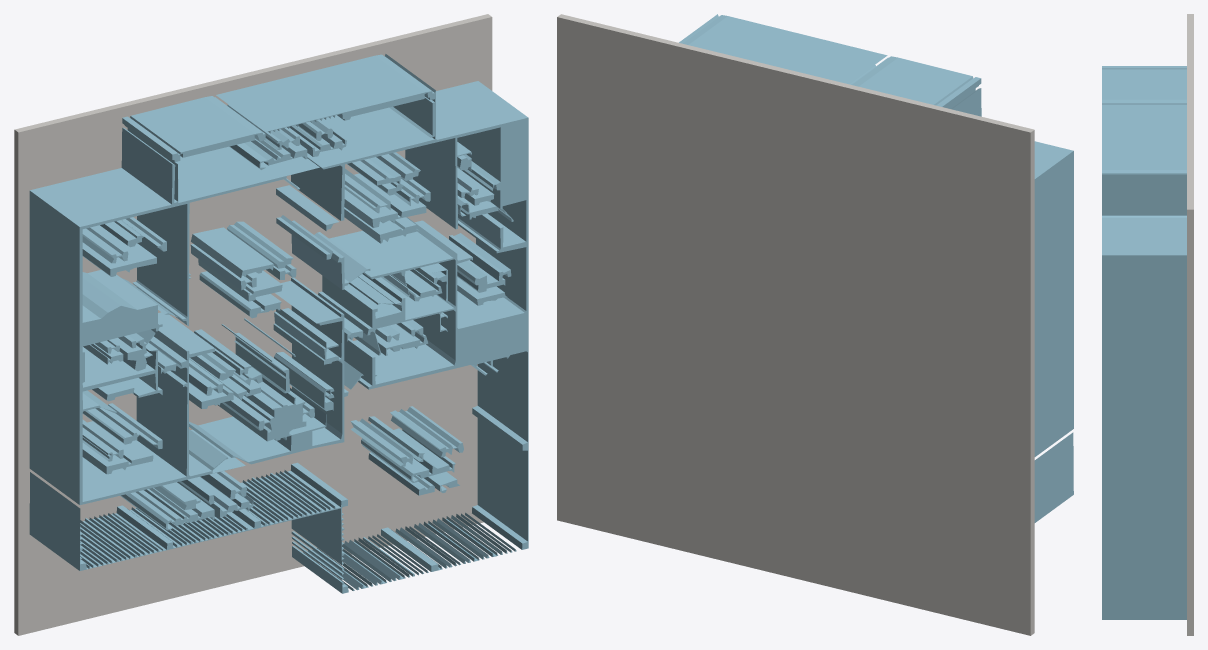
The picture shows the model from 3 angles, left to right: view 1: azimuth 30°, elevation 25°; view 2: azimuth 150°, elevation 25°; view 3: azimuth 270°, elevation 25°; orthographic projection. The views are drawn at different scales.
Parts seen in each view (by area): view 1: world; view 2: world; view 3: world.
Boxes of the visible parts, x1,y1,x2,y2 form: world: (14,14,528,635); world: (557,14,1073,635); world: (1102,14,1193,635).
Size of the model in its own units: 10.23 by 10.39 by 2.03.
